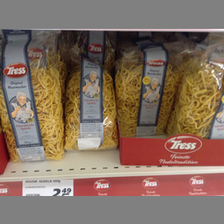pasta: (1, 33, 64, 162), (115, 54, 180, 137), (64, 60, 118, 150), (166, 65, 224, 138)
